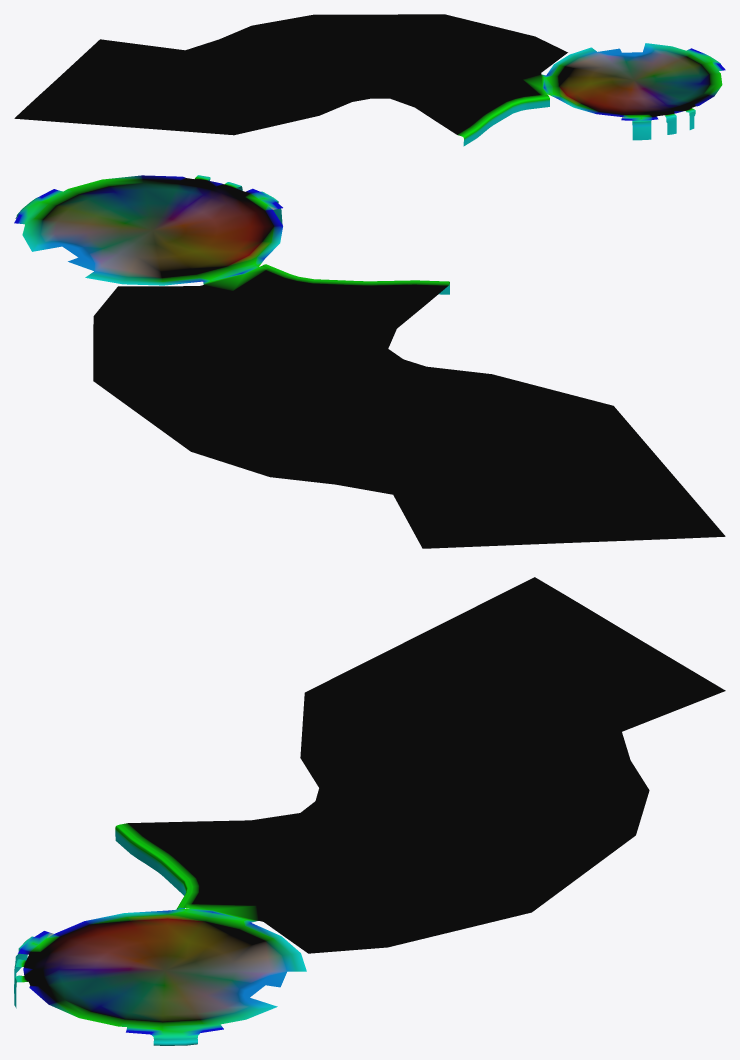
The picture shows the model from 3 angles, top to bottom: view 1: azimuth 30°, elevation 25°; view 2: azimuth 150°, elevation 25°; view 3: azimuth 270°, elevation 25°; orthographic projection. The views are drawn at different scales.
Visible parts, largest first — view 1: G:\FFXIV-MapTools\exports\e3f2\bg\ex2\02_est_e3\fld\e3f2\bgp; view 2: G:\FFXIV-MapTools\exports\e3f2\bg\ex2\02_est_e3\fld\e3f2\bgp; view 3: G:\FFXIV-MapTools\exports\e3f2\bg\ex2\02_est_e3\fld\e3f2\bgp.
Boxes of the visible parts, x1,y1,x2,y2 form: G:\FFXIV-MapTools\exports\e3f2\bg\ex2\02_est_e3\fld\e3f2\bgp: (14, 14, 725, 146); G:\FFXIV-MapTools\exports\e3f2\bg\ex2\02_est_e3\fld\e3f2\bgp: (14, 175, 725, 548); G:\FFXIV-MapTools\exports\e3f2\bg\ex2\02_est_e3\fld\e3f2\bgp: (14, 577, 725, 1045).
Size of the model in its own units: 2636 by 75.47 by 1724.
